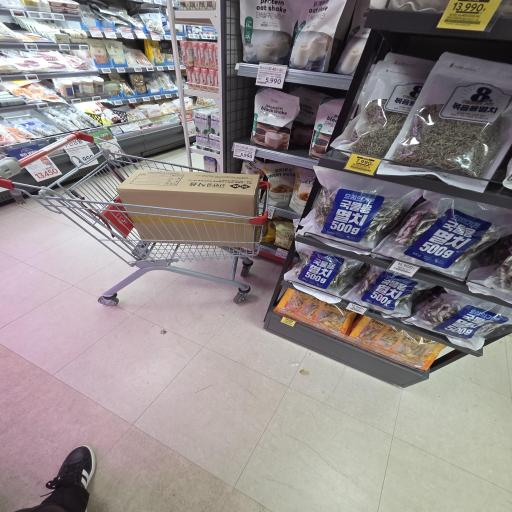fully_cart: (0, 124, 291, 309)
